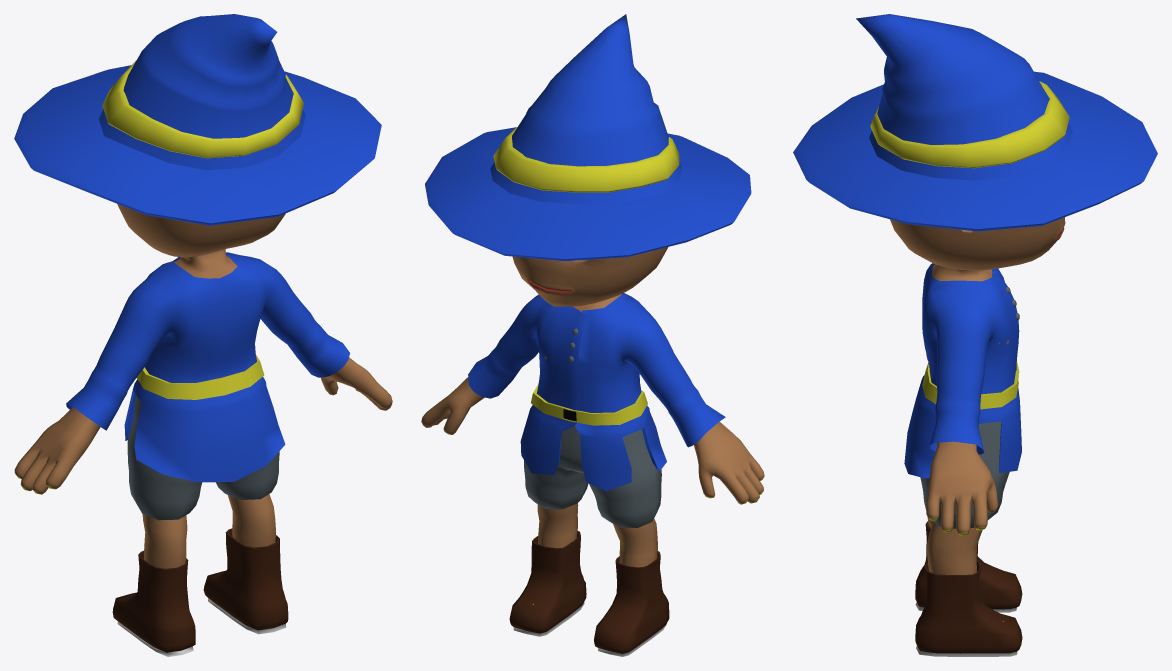
File: WizardCharacter.fbx
3 views of the same model, side by side, from view 1: azimuth 30°, elevation 25°; view 2: azimuth 150°, elevation 25°; view 3: azimuth 270°, elevation 25° (orthographic). The views are drawn at different scales.
Parts seen in each view (by area): view 1: Body (×6), Body.003 (×2); view 2: Body (×6), Body.003 (×2); view 3: Body.003 (×2), Body (×6).
Boxes of the visible parts, left/top/right/bottom form: Body (×6): left=14, top=204, right=392, bottom=656; Body.003 (×2): left=14, top=14, right=381, bottom=225; Body (×6): left=421, top=247, right=764, bottom=656; Body.003 (×2): left=425, top=14, right=751, bottom=261; Body.003 (×2): left=793, top=14, right=1157, bottom=231; Body (×6): left=890, top=217, right=1065, bottom=656.
Size of the model in its own units: 269 by 444 by 238.
